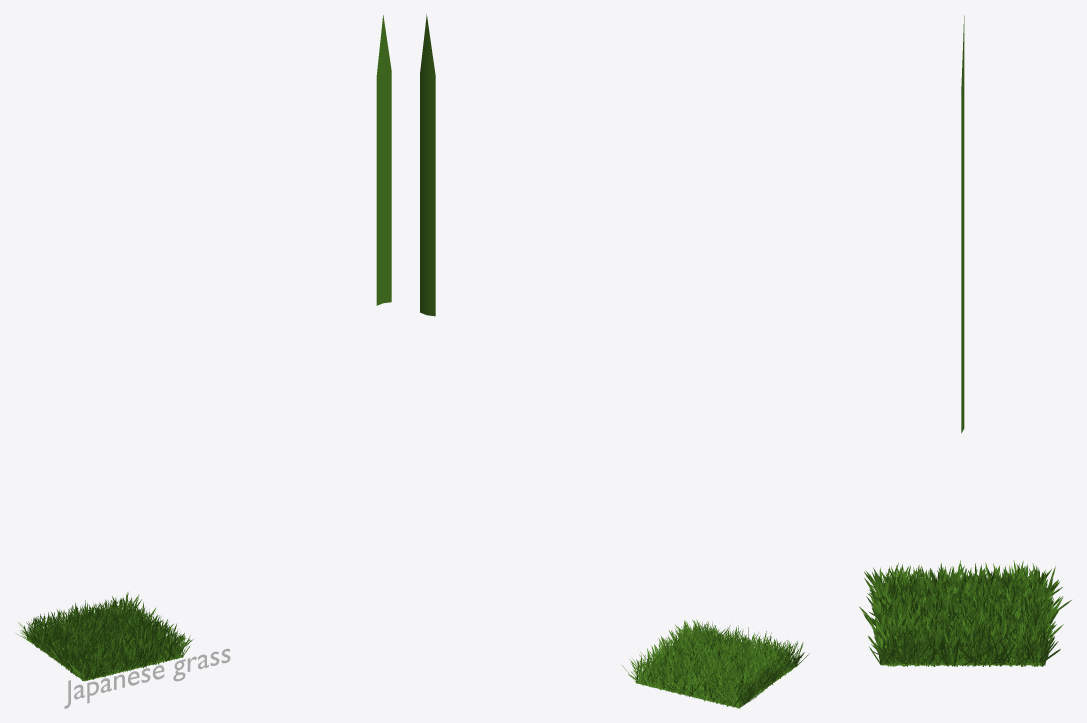
File: japanese.glb
3 views of the same model, side by side, from view 1: azimuth 30°, elevation 25°; view 2: azimuth 150°, elevation 25°; view 3: azimuth 270°, elevation 25° (orthographic). The views are drawn at different scales.
Visible parts, largest first — view 1: Japanese grass, Text.007; view 2: Japanese grass; view 3: Japanese grass.
Boxes of the visible parts, left/top/right/bottom form: Japanese grass: left=376, top=15, right=391, bottom=305; Text.007: left=64, top=648, right=230, bottom=708; Japanese grass: left=420, top=14, right=435, bottom=316; Japanese grass: left=961, top=15, right=964, bottom=433.
Size of the model in its own units: 7.24 by 11.21 by 2.6.
